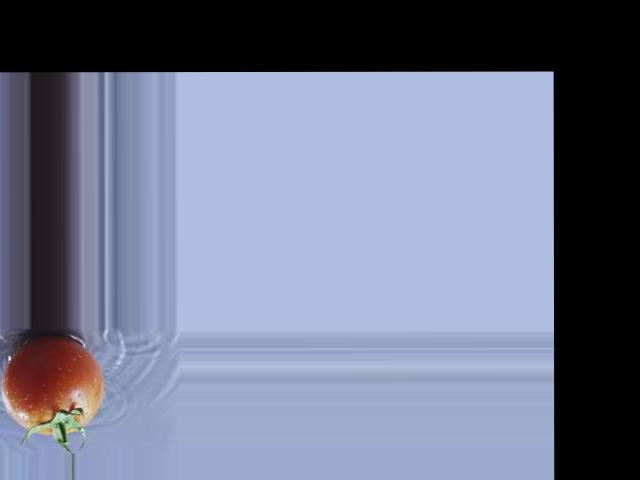tomato: (1, 335, 102, 433)
